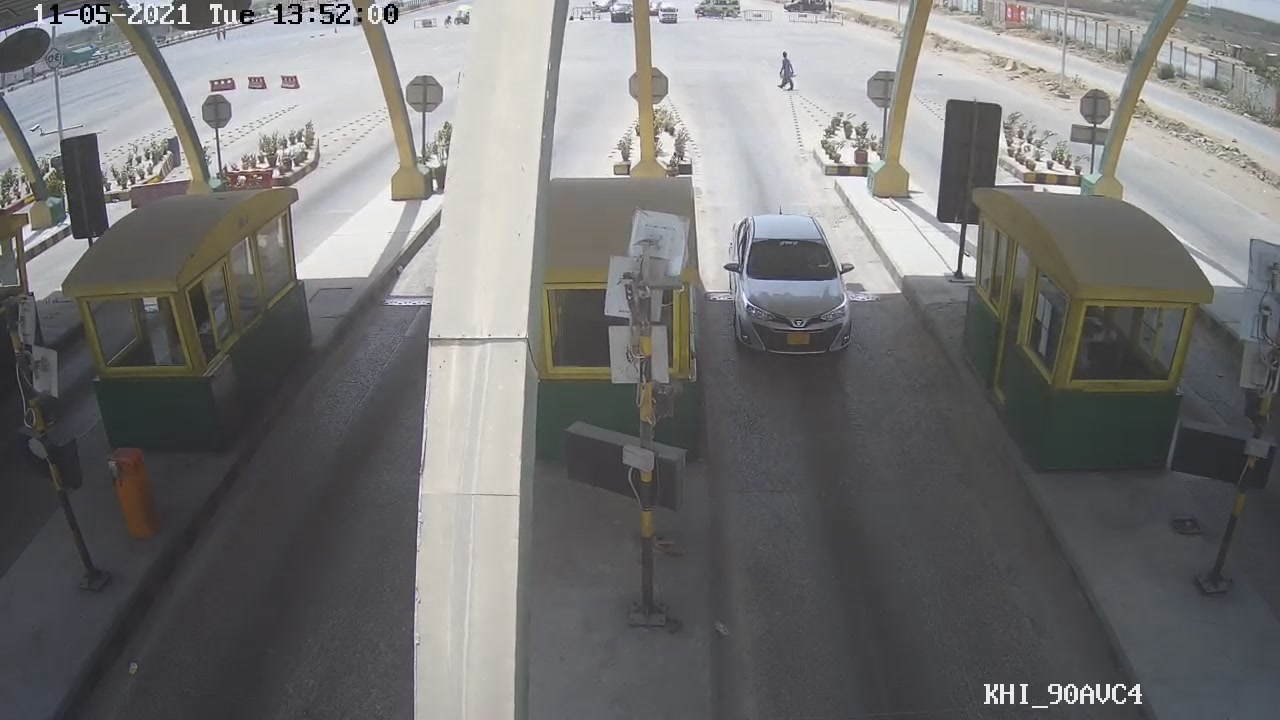F1: (721, 209, 861, 359)
